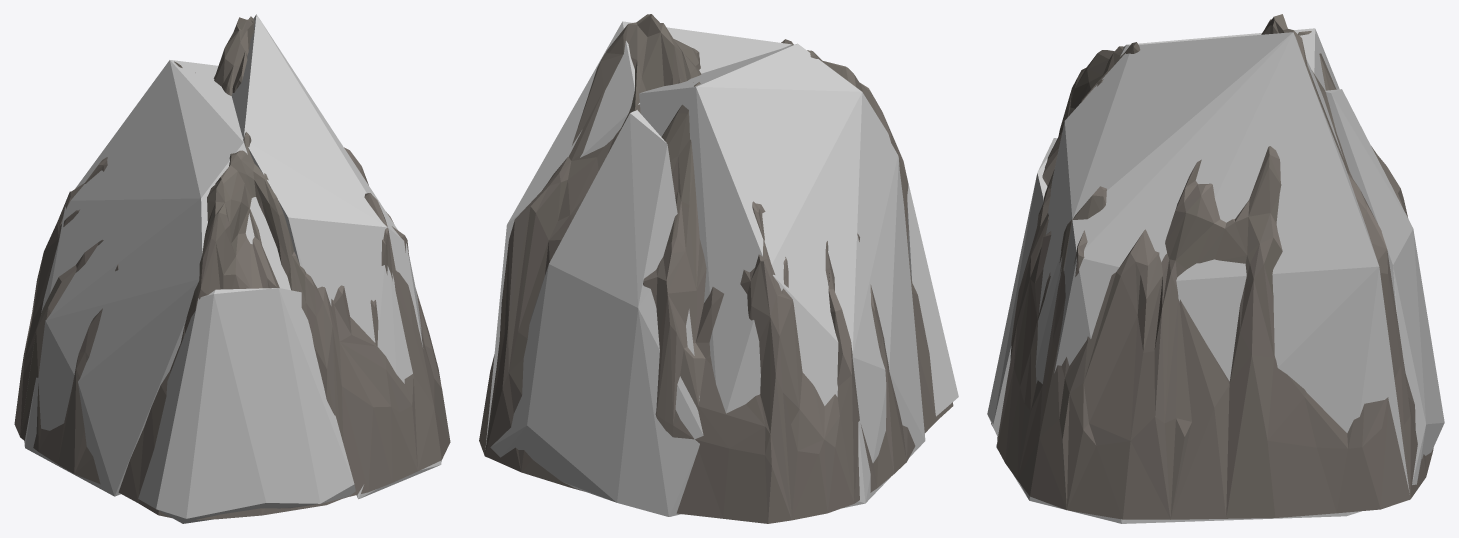
The model's file is SM_Env_Mountains_Grass_01.fbx.
3 renders of one model, left to right at view 1: azimuth 30°, elevation 25°; view 2: azimuth 150°, elevation 25°; view 3: azimuth 270°, elevation 25°, orthographic. The views are drawn at different scales.
Visible parts, largest first — view 1: SM_Env_Mountains_Grass_01_ConvexHulls, SM_Env_Mountains_Grass_01; view 2: SM_Env_Mountains_Grass_01_ConvexHulls, SM_Env_Mountains_Grass_01; view 3: SM_Env_Mountains_Grass_01_ConvexHulls, SM_Env_Mountains_Grass_01.
Part boxes in pixels (x1,y1,x2,y2): SM_Env_Mountains_Grass_01_ConvexHulls: (24, 14, 441, 523); SM_Env_Mountains_Grass_01: (14, 16, 450, 519); SM_Env_Mountains_Grass_01_ConvexHulls: (485, 21, 958, 516); SM_Env_Mountains_Grass_01: (479, 14, 953, 523); SM_Env_Mountains_Grass_01_ConvexHulls: (987, 28, 1444, 523); SM_Env_Mountains_Grass_01: (991, 14, 1433, 519).
Bounding box in the file's own units: 3203 × 3325 × 3511.
Materials: 2 (1 with a texture image).
